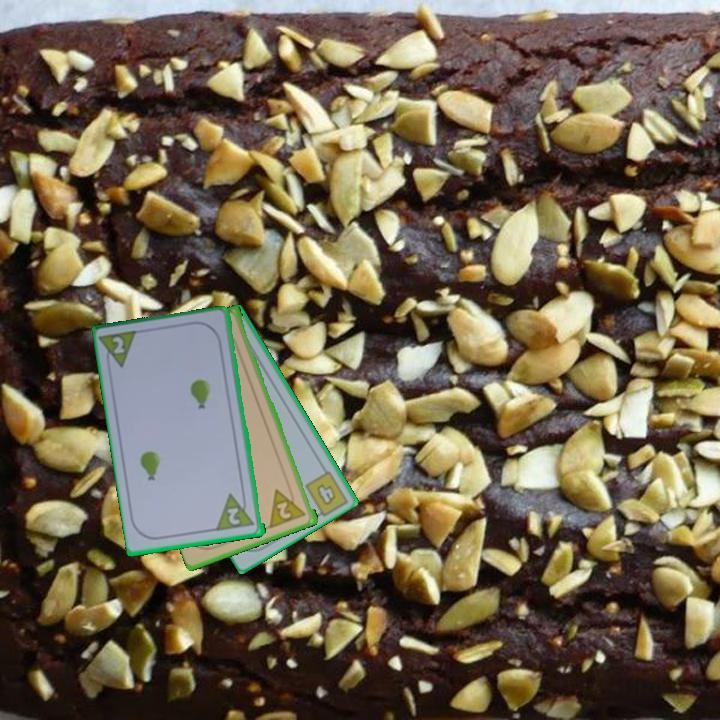2p: (266, 482, 309, 531), (98, 327, 142, 373), (214, 489, 258, 534)
4b: (313, 480, 339, 509)
